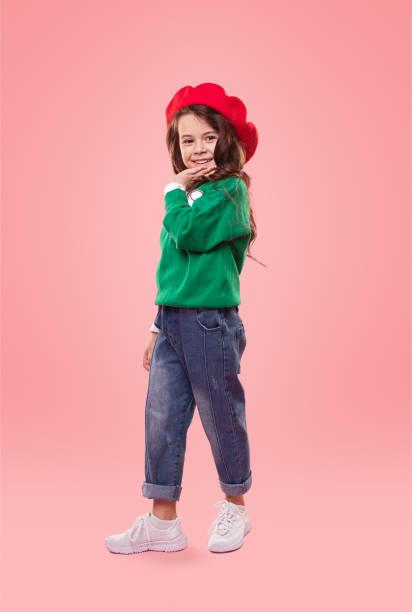Human: (114, 66, 260, 570)
